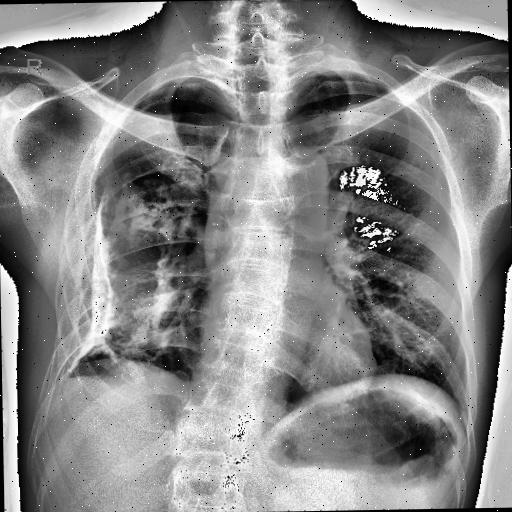11- Pleural thickening: (60, 176, 196, 373), (64, 184, 184, 368), (54, 190, 116, 380)
2- Calcification: (64, 184, 184, 368), (54, 190, 116, 380)
